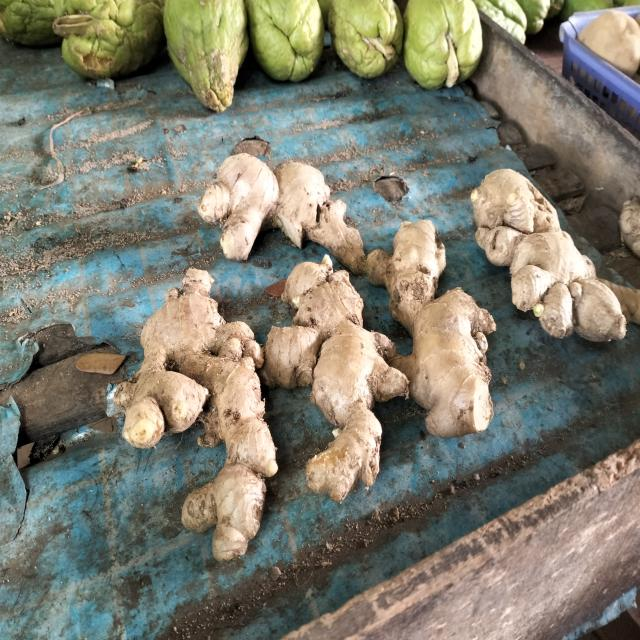ginger: (132, 266, 267, 542), (467, 155, 640, 348), (280, 242, 404, 500), (378, 222, 495, 451), (202, 117, 360, 262)
